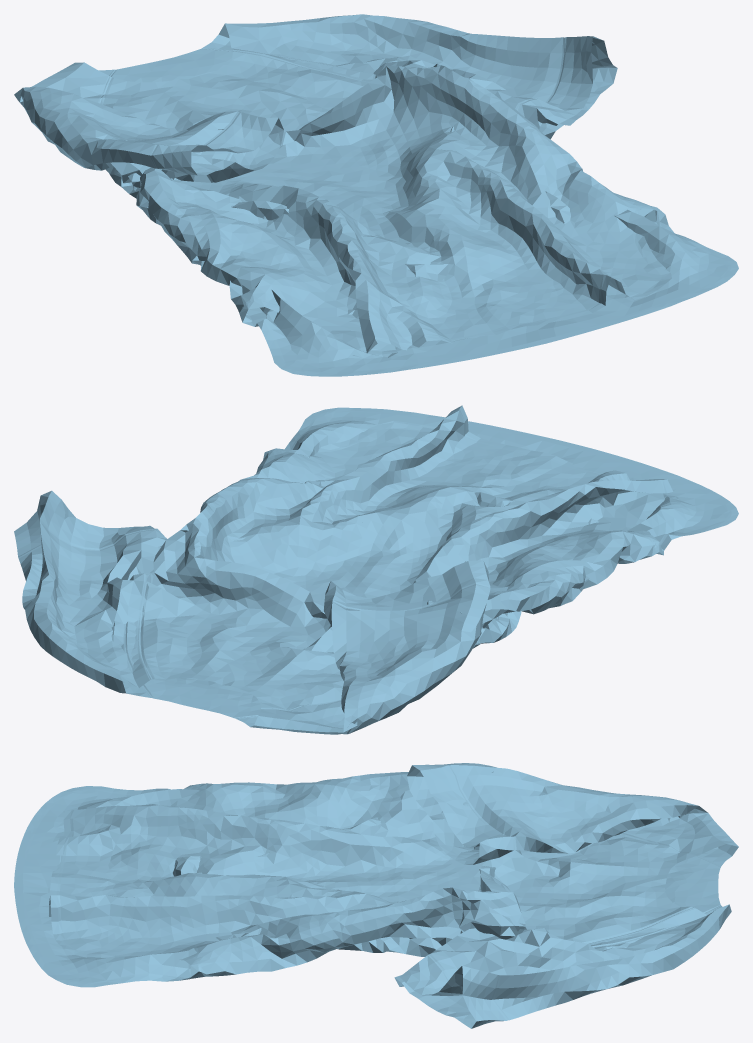
Rendered from frame_02.glb.
3 views of the same model, one above another, from view 1: azimuth 30°, elevation 25°; view 2: azimuth 150°, elevation 25°; view 3: azimuth 270°, elevation 25° (orthographic). The views are drawn at different scales.
Parts seen in each view (by area): view 1: frame_02.obj; view 2: frame_02.obj; view 3: frame_02.obj.
Part boxes in pixels (x1=…): frame_02.obj: x1=14, y1=14, x2=738, y2=376; frame_02.obj: x1=14, y1=405, x2=738, y2=734; frame_02.obj: x1=14, y1=763, x2=738, y2=1028.
Size of the model in its own units: 1.45 by 0.1894 by 1.81.
